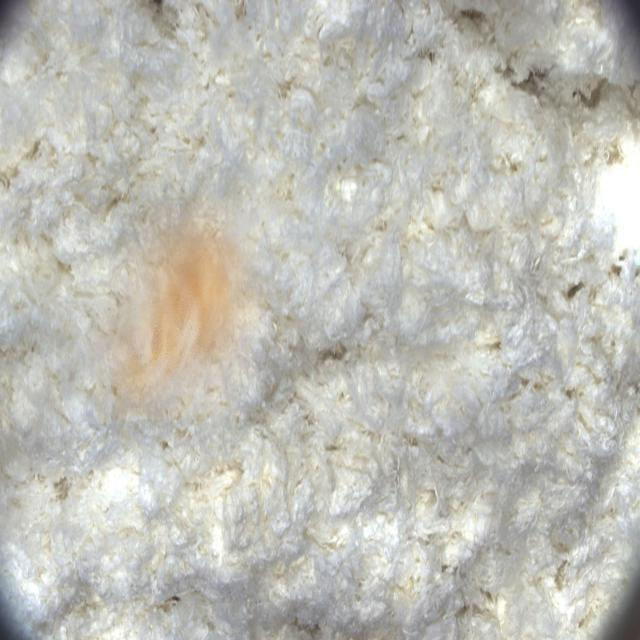dust: (89, 197, 275, 419)
